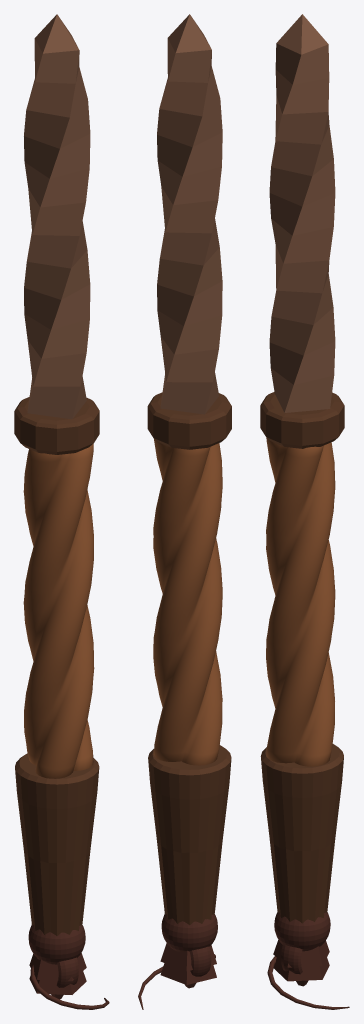
Rendered from Wand 858.glb.
3 views of the same model, side by side, from view 1: azimuth 30°, elevation 25°; view 2: azimuth 210°, elevation 25°; view 3: azimuth 330°, elevation 25° (orthographic).
Visible parts, largest first — view 1: GeneratedWand, Pommel_4, Pommel_9, Pommel_2, Pommel_10; view 2: GeneratedWand, Pommel_4, Pommel_9, Pommel_2; view 3: GeneratedWand, Pommel_4, Pommel_9, Pommel_2, Pommel_10.
Boxes of the visible parts, <box> form: GeneratedWand: <box>14,14,99,981</box>; Pommel_4: <box>28,925,85,964</box>; Pommel_9: <box>29,971,86,994</box>; Pommel_2: <box>56,957,78,987</box>; Pommel_10: <box>30,965,109,1009</box>; GeneratedWand: <box>147,14,231,971</box>; Pommel_4: <box>161,914,217,951</box>; Pommel_9: <box>160,963,216,984</box>; Pommel_2: <box>190,946,211,976</box>; GeneratedWand: <box>260,14,344,967</box>; Pommel_4: <box>274,912,330,951</box>; Pommel_9: <box>274,958,329,981</box>; Pommel_2: <box>281,944,302,974</box>; Pommel_10: <box>267,956,349,1009</box>.
Bounding box in the file's own units: 0.0457 × 0.5127 × 0.0401.
